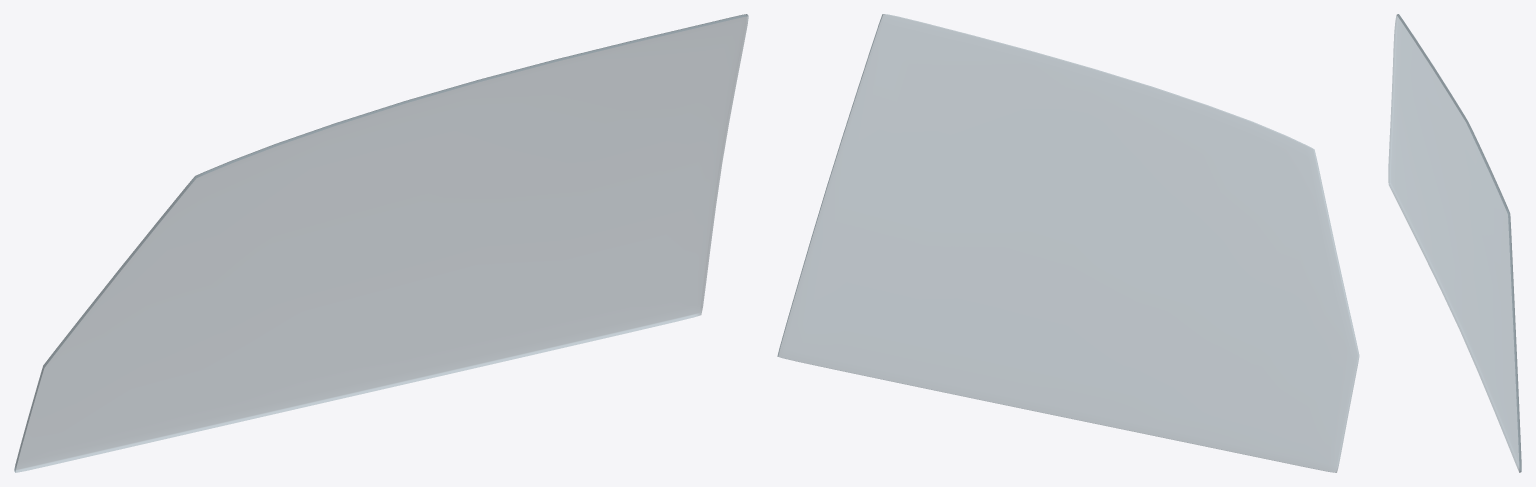
3 renders of one model, left to right at view 1: azimuth 30°, elevation 25°; view 2: azimuth 150°, elevation 25°; view 3: azimuth 270°, elevation 25°, orthographic. The views are drawn at different scales.
Visible parts, largest first — view 1: SM_LincolnMKZ_Door_RL_Glass_Ext1; view 2: SM_LincolnMKZ_Door_RL_Glass_Ext1; view 3: SM_LincolnMKZ_Door_RL_Glass_Ext1.
Part boxes in pixels (bbox=[...]): SM_LincolnMKZ_Door_RL_Glass_Ext1: bbox=[14, 14, 748, 472]; SM_LincolnMKZ_Door_RL_Glass_Ext1: bbox=[777, 14, 1359, 472]; SM_LincolnMKZ_Door_RL_Glass_Ext1: bbox=[1388, 14, 1521, 472].
Bounding box in the file's own units: 0.6963 × 0.3617 × 0.1595.
